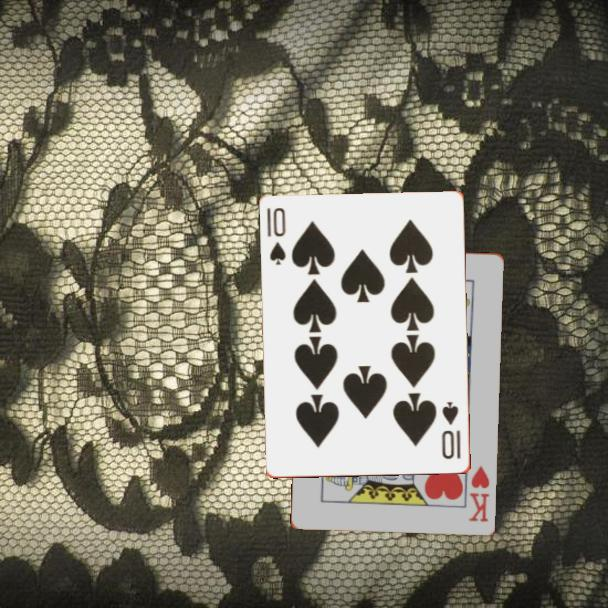h13: (465, 462, 492, 524)
s10: (438, 399, 464, 463), (264, 204, 289, 268)
